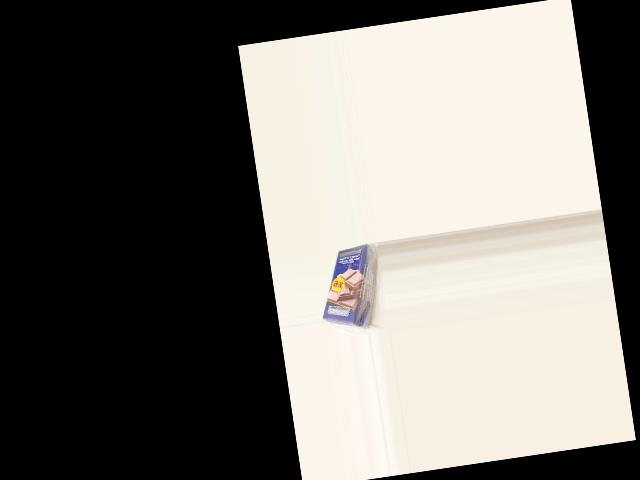chocolate: (312, 243, 383, 329)
